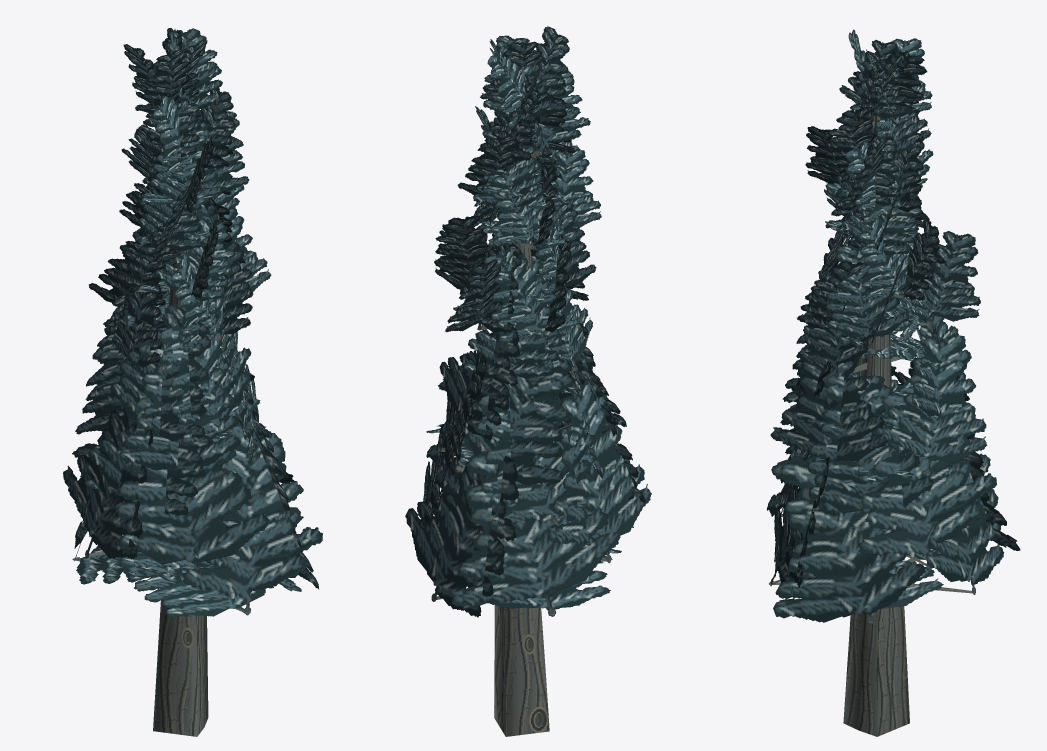
Rendered from snow-fir-mobile.glb.
The picture shows the model from 3 angles, left to right: view 1: azimuth 30°, elevation 25°; view 2: azimuth 150°, elevation 25°; view 3: azimuth 270°, elevation 25°; orthographic projection.
Parts seen in each view (by area): view 1: Snow fir mobile v3 runtime; view 2: Snow fir mobile v3 runtime; view 3: Snow fir mobile v3 runtime.
Part boxes in pixels (left/top/right/bottom): Snow fir mobile v3 runtime: left=63, top=28, right=322, bottom=736; Snow fir mobile v3 runtime: left=405, top=26, right=651, bottom=736; Snow fir mobile v3 runtime: left=767, top=29, right=1020, bottom=736.
Size of the model in its own units: 4.81 by 11.4 by 4.89.
1 material, 1 textured.
